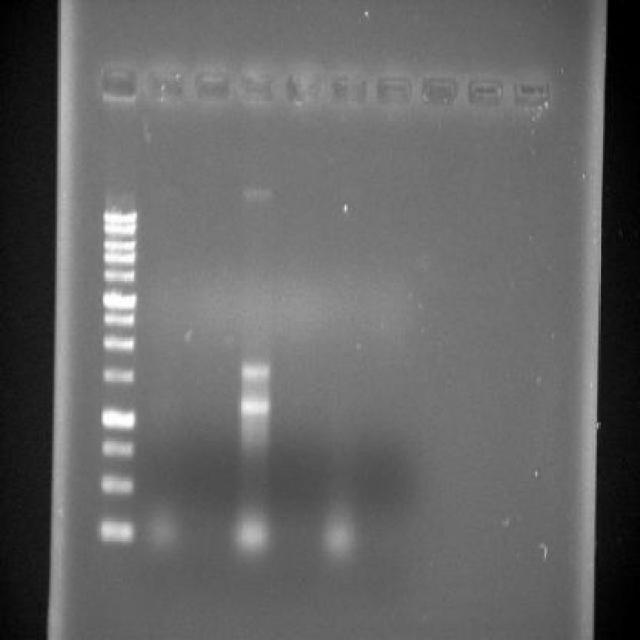B: (144, 505, 182, 553), (320, 517, 356, 560), (233, 514, 272, 551), (237, 356, 274, 384), (238, 393, 273, 419), (240, 186, 276, 202)
L: (89, 34, 562, 144)
M: (92, 180, 142, 558)
P: (95, 514, 136, 548), (95, 468, 136, 501), (98, 399, 136, 433), (95, 436, 137, 462), (99, 361, 136, 387), (99, 332, 138, 356), (100, 290, 138, 312), (100, 266, 137, 286), (102, 207, 138, 226), (100, 311, 138, 327), (102, 222, 138, 238), (100, 250, 138, 264), (102, 238, 136, 253)
Pc: (143, 57, 188, 109), (282, 60, 326, 112), (98, 56, 138, 113), (190, 56, 232, 110), (373, 63, 415, 117), (236, 57, 279, 109), (328, 60, 370, 111), (508, 67, 552, 115), (418, 65, 460, 113), (464, 67, 506, 115)
